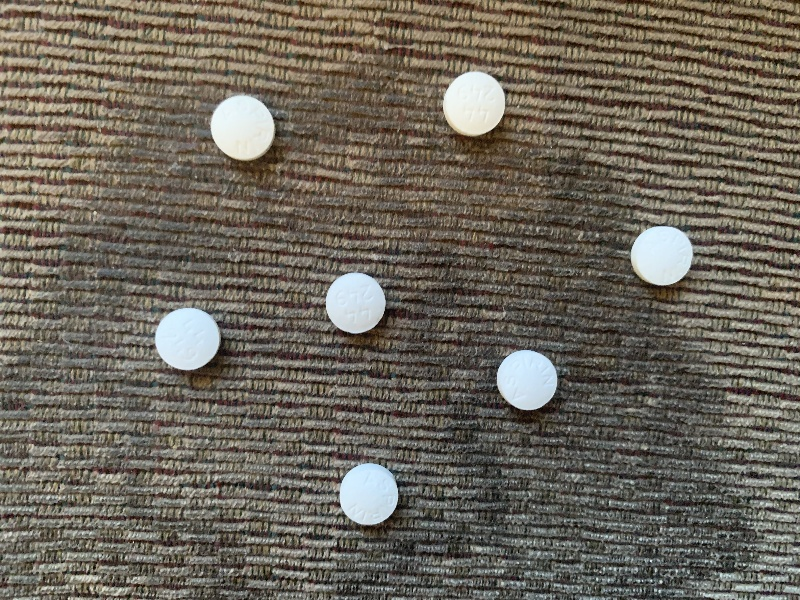Aspirin: (209, 93, 279, 168), (488, 345, 563, 415), (440, 68, 510, 142), (152, 306, 222, 377), (624, 222, 699, 288), (335, 460, 402, 530), (324, 270, 388, 337)
